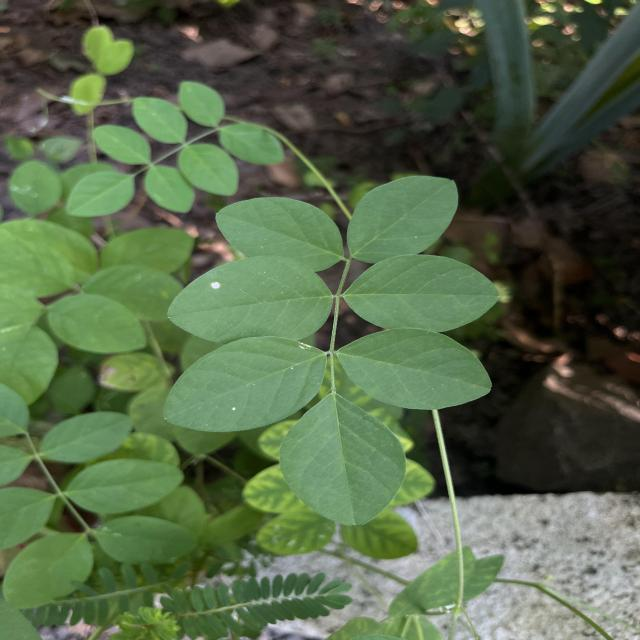Clitoria ternatea: (277, 392, 408, 528), (162, 332, 330, 434), (166, 253, 335, 346), (336, 325, 494, 412), (340, 253, 502, 333), (344, 174, 460, 266), (213, 195, 344, 273)
